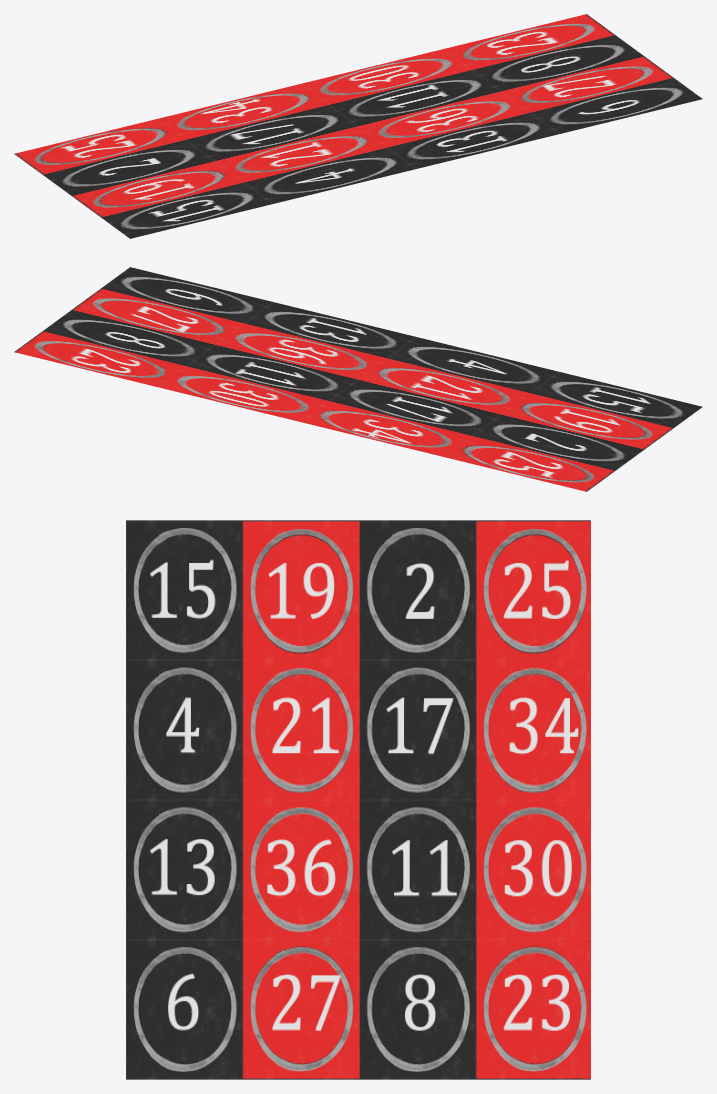
File: Wall.fbx
3 renders of one model, top to bottom at view 1: azimuth 30°, elevation 25°; view 2: azimuth 150°, elevation 25°; view 3: azimuth 270°, elevation 25°, orthographic. The views are drawn at different scales.
Parts seen in each view (by area): view 1: Plane; view 2: Plane; view 3: Plane.
Boxes of the visible parts, x1,y1,x2,y2 form: Plane: (14,14,702,238); Plane: (14,267,702,491); Plane: (126,520,590,1079).
Size of the model in its own units: 3200 by 0.0002 by 1124.
